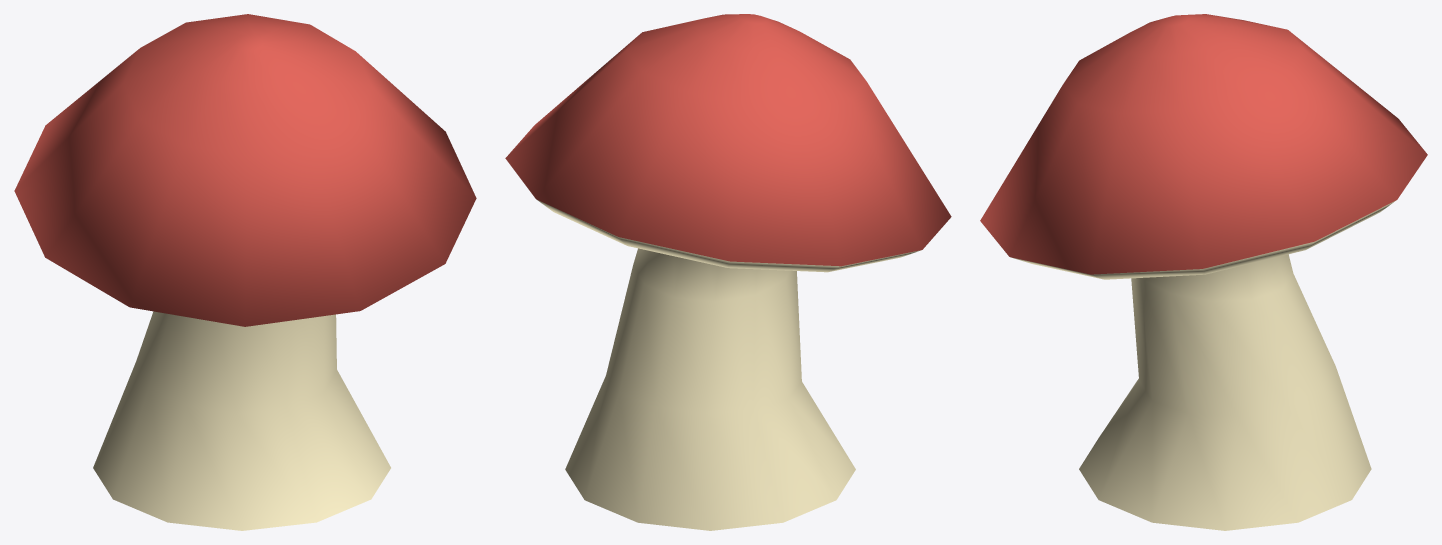
The model's file is lowPolyTiles_mushroom01.fbx.
3 renders of one model, left to right at view 1: azimuth 30°, elevation 25°; view 2: azimuth 150°, elevation 25°; view 3: azimuth 270°, elevation 25°, orthographic. The views are drawn at different scales.
Visible parts, largest first — view 1: mushroom01; view 2: mushroom01; view 3: mushroom01.
Boxes of the visible parts, x1=… form: mushroom01: x1=14, y1=14, x2=476, y2=530; mushroom01: x1=505, y1=14, x2=951, y2=530; mushroom01: x1=980, y1=14, x2=1427, y2=530.
Size of the model in its own units: 34.01 by 36.65 by 33.66.
